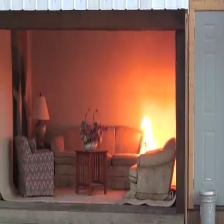fire_h: (140, 115, 157, 154)
fire_l: (170, 155, 176, 190)
